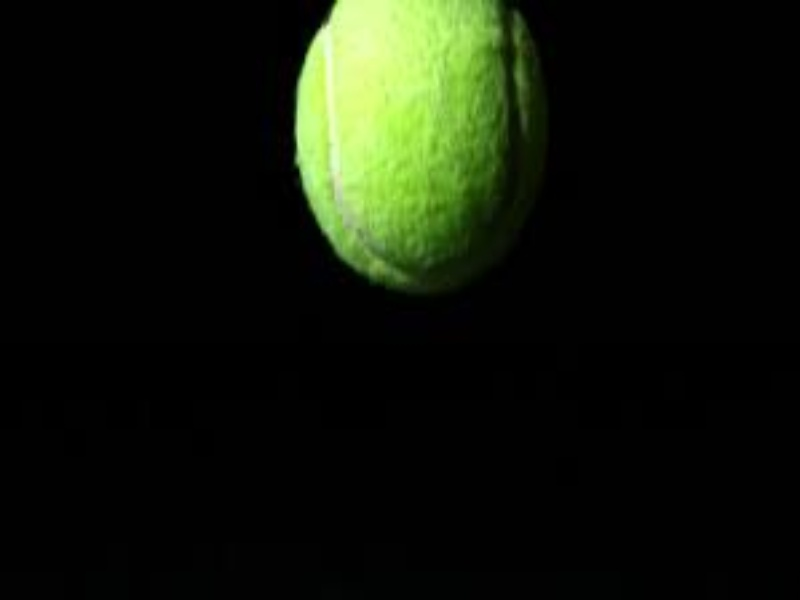tennis ball: (269, 3, 568, 299)
